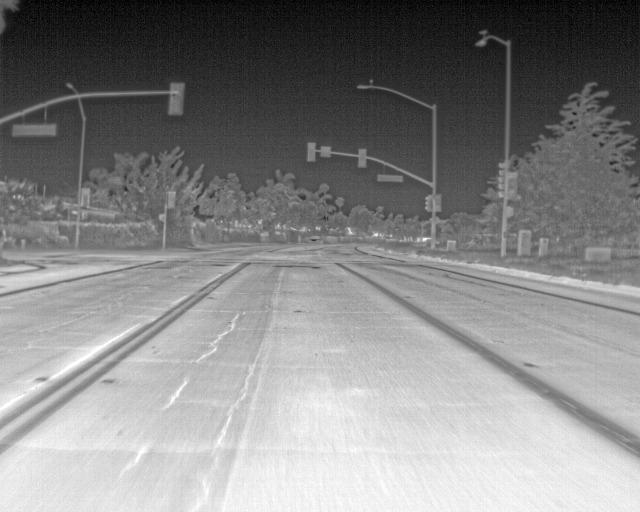car: (308, 235, 323, 245), (324, 236, 337, 244)
light: (168, 82, 185, 116), (508, 173, 517, 199), (499, 170, 505, 199), (358, 149, 366, 168), (308, 142, 315, 162), (435, 195, 441, 212), (506, 207, 514, 217), (425, 197, 429, 211), (159, 215, 164, 221)
sign: (12, 123, 57, 137), (81, 188, 90, 208), (377, 176, 403, 182), (168, 191, 175, 209), (321, 146, 331, 158)
